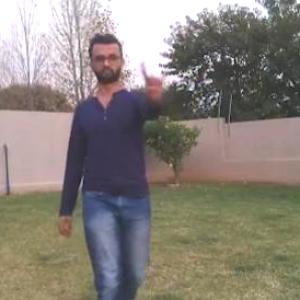takeoff-hand: (138, 46, 171, 95)
